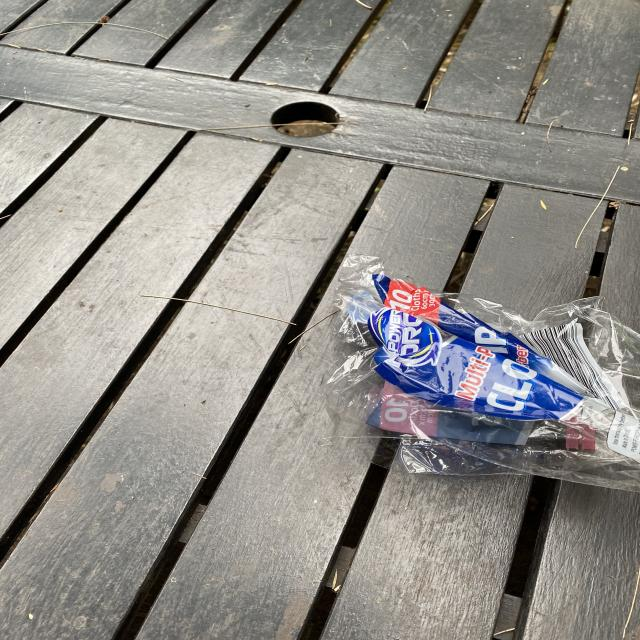wrappers: (328, 255, 640, 491)
